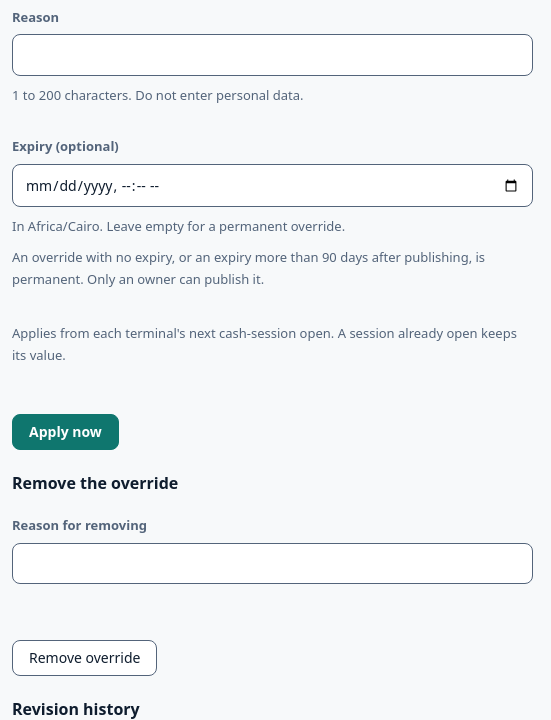
Scenario: StorePolicySection › clearing needs a reason, then sends kind clear with the reason only
(page scrolled)
Click the button "Remove override" at (85, 658), box [12, 640, 157, 676]
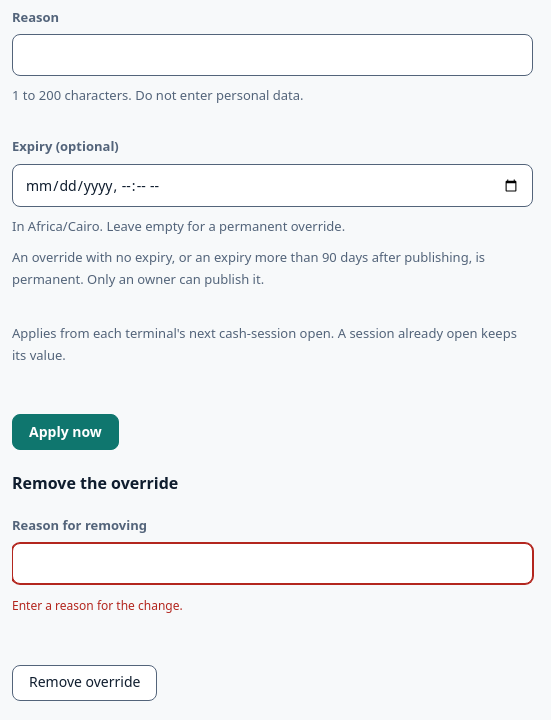
Expected: the text "Enter a reason for the change." is shown, [12, 597, 183, 614]
Type "Audit done" into the field labelled "Reason for removing" at (272, 564), box [12, 543, 532, 584]
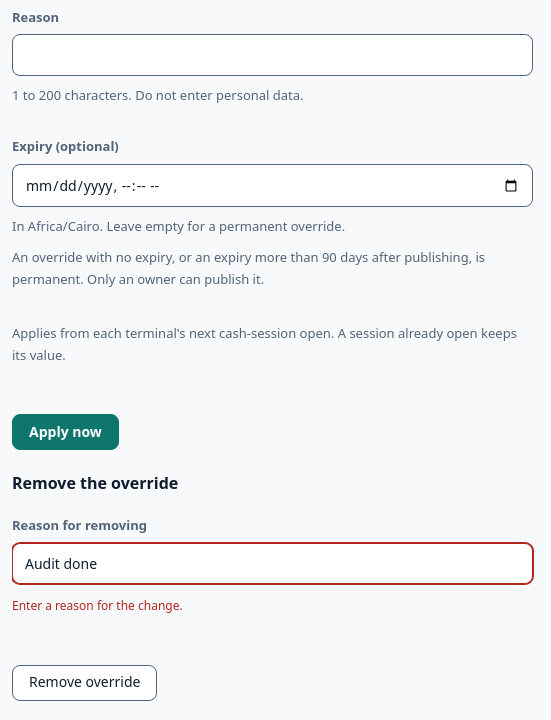
Click the button "Remove override" at (85, 683), box [12, 665, 157, 701]
(page scrolled)
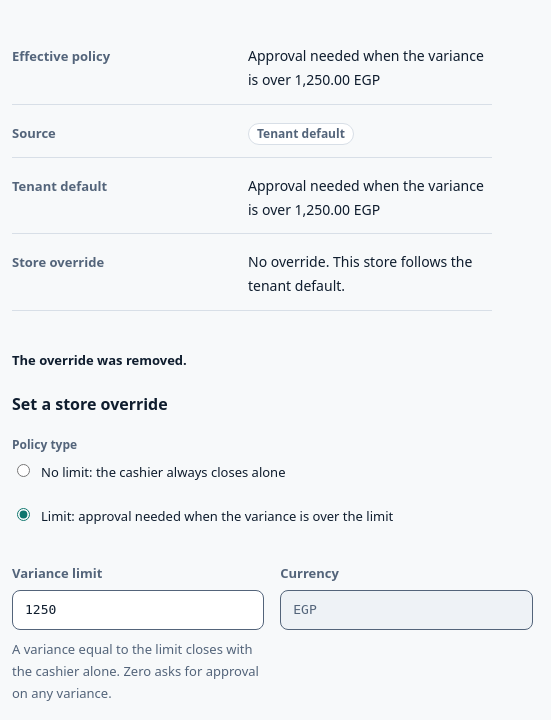
Expected: the text "The override was removed." is shown, [12, 351, 187, 369]
Expected: the button "Remove override" is gone
